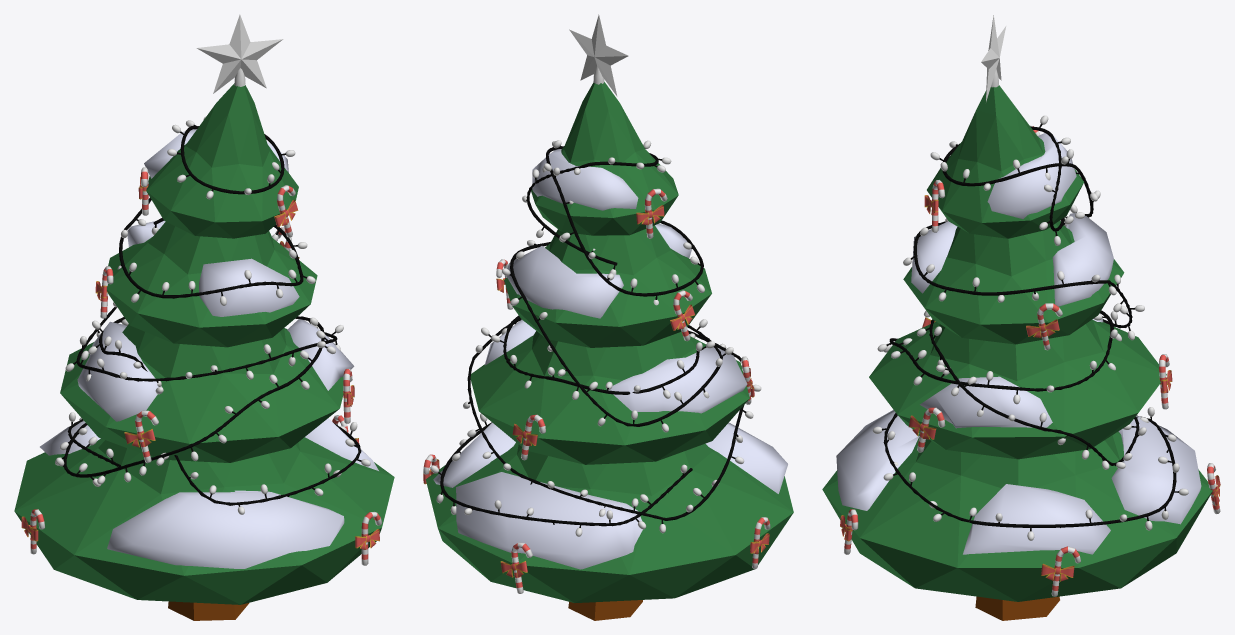
The model's file is christmastree.fbx.
3 renders of one model, left to right at view 1: azimuth 30°, elevation 25°; view 2: azimuth 150°, elevation 25°; view 3: azimuth 270°, elevation 25°, orthographic. The views are drawn at different scales.
Visible parts, largest first — view 1: pine, decor_tree, Cloud.008; view 2: pine, Cloud.008, decor_tree; view 3: pine, Cloud.008, decor_tree.
Part boxes in pixels (x1,y1,x2,y2): pine: [14, 83, 394, 620]; decor_tree: [21, 14, 382, 565]; Cloud.008: [63, 126, 361, 505]; pine: [425, 82, 793, 620]; Cloud.008: [440, 146, 744, 526]; decor_tree: [423, 14, 770, 593]; pine: [822, 85, 1212, 620]; Cloud.008: [883, 126, 1176, 527]; decor_tree: [840, 15, 1220, 596].
Bounding box in the file's own units: 111 × 188 × 113.
